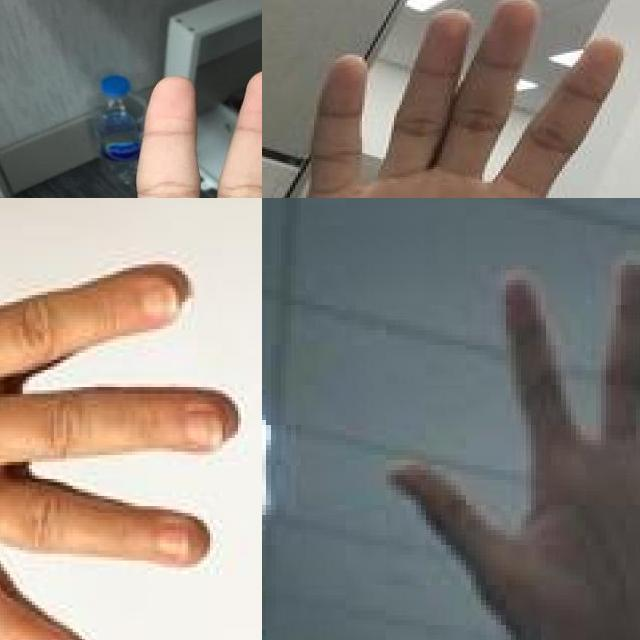hand: (0, 198, 262, 640), (381, 250, 640, 640), (274, 0, 640, 198), (0, 67, 262, 198)
